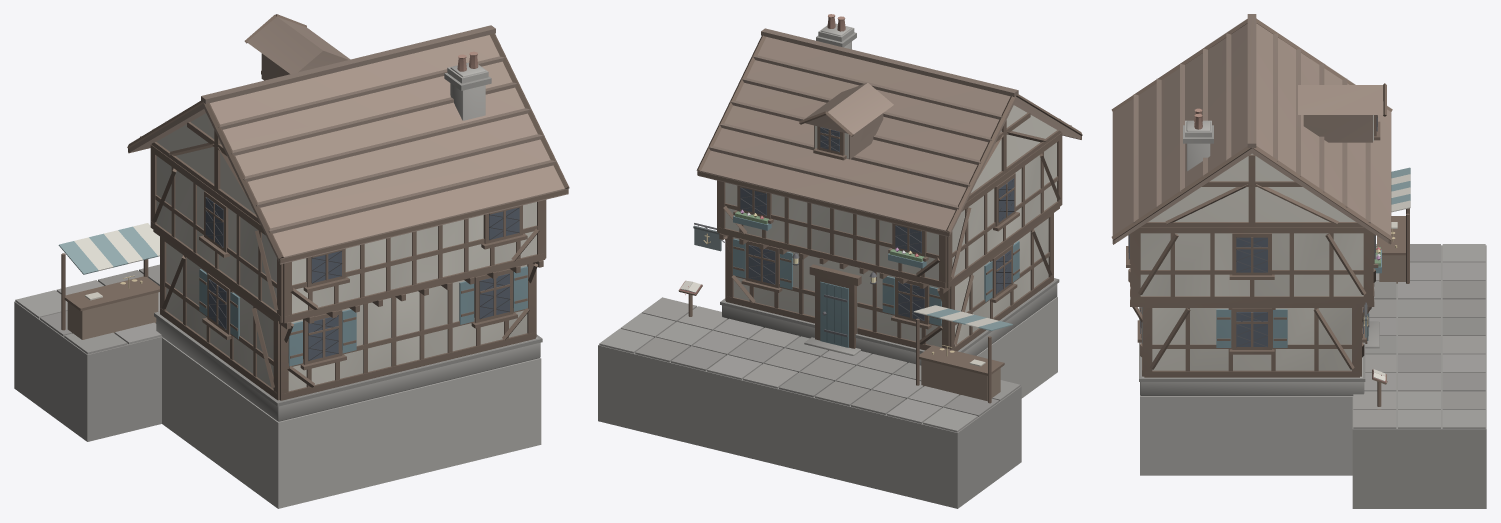
Rendered from harbour_master_3.gltf.
The picture shows the model from 3 angles, left to right: view 1: azimuth 30°, elevation 25°; view 2: azimuth 150°, elevation 25°; view 3: azimuth 270°, elevation 25°; orthographic projection. The views are drawn at different scales.
Parts seen in each view (by area): view 1: Body; view 2: Body; view 3: Body.
Boxes of the visible parts, box(x1,y1,x2,y2) form: Body: box(14, 14, 569, 508); Body: box(598, 14, 1082, 508); Body: box(1111, 14, 1486, 508).
Size of the model in its own units: 13 by 11.35 by 11.2.
